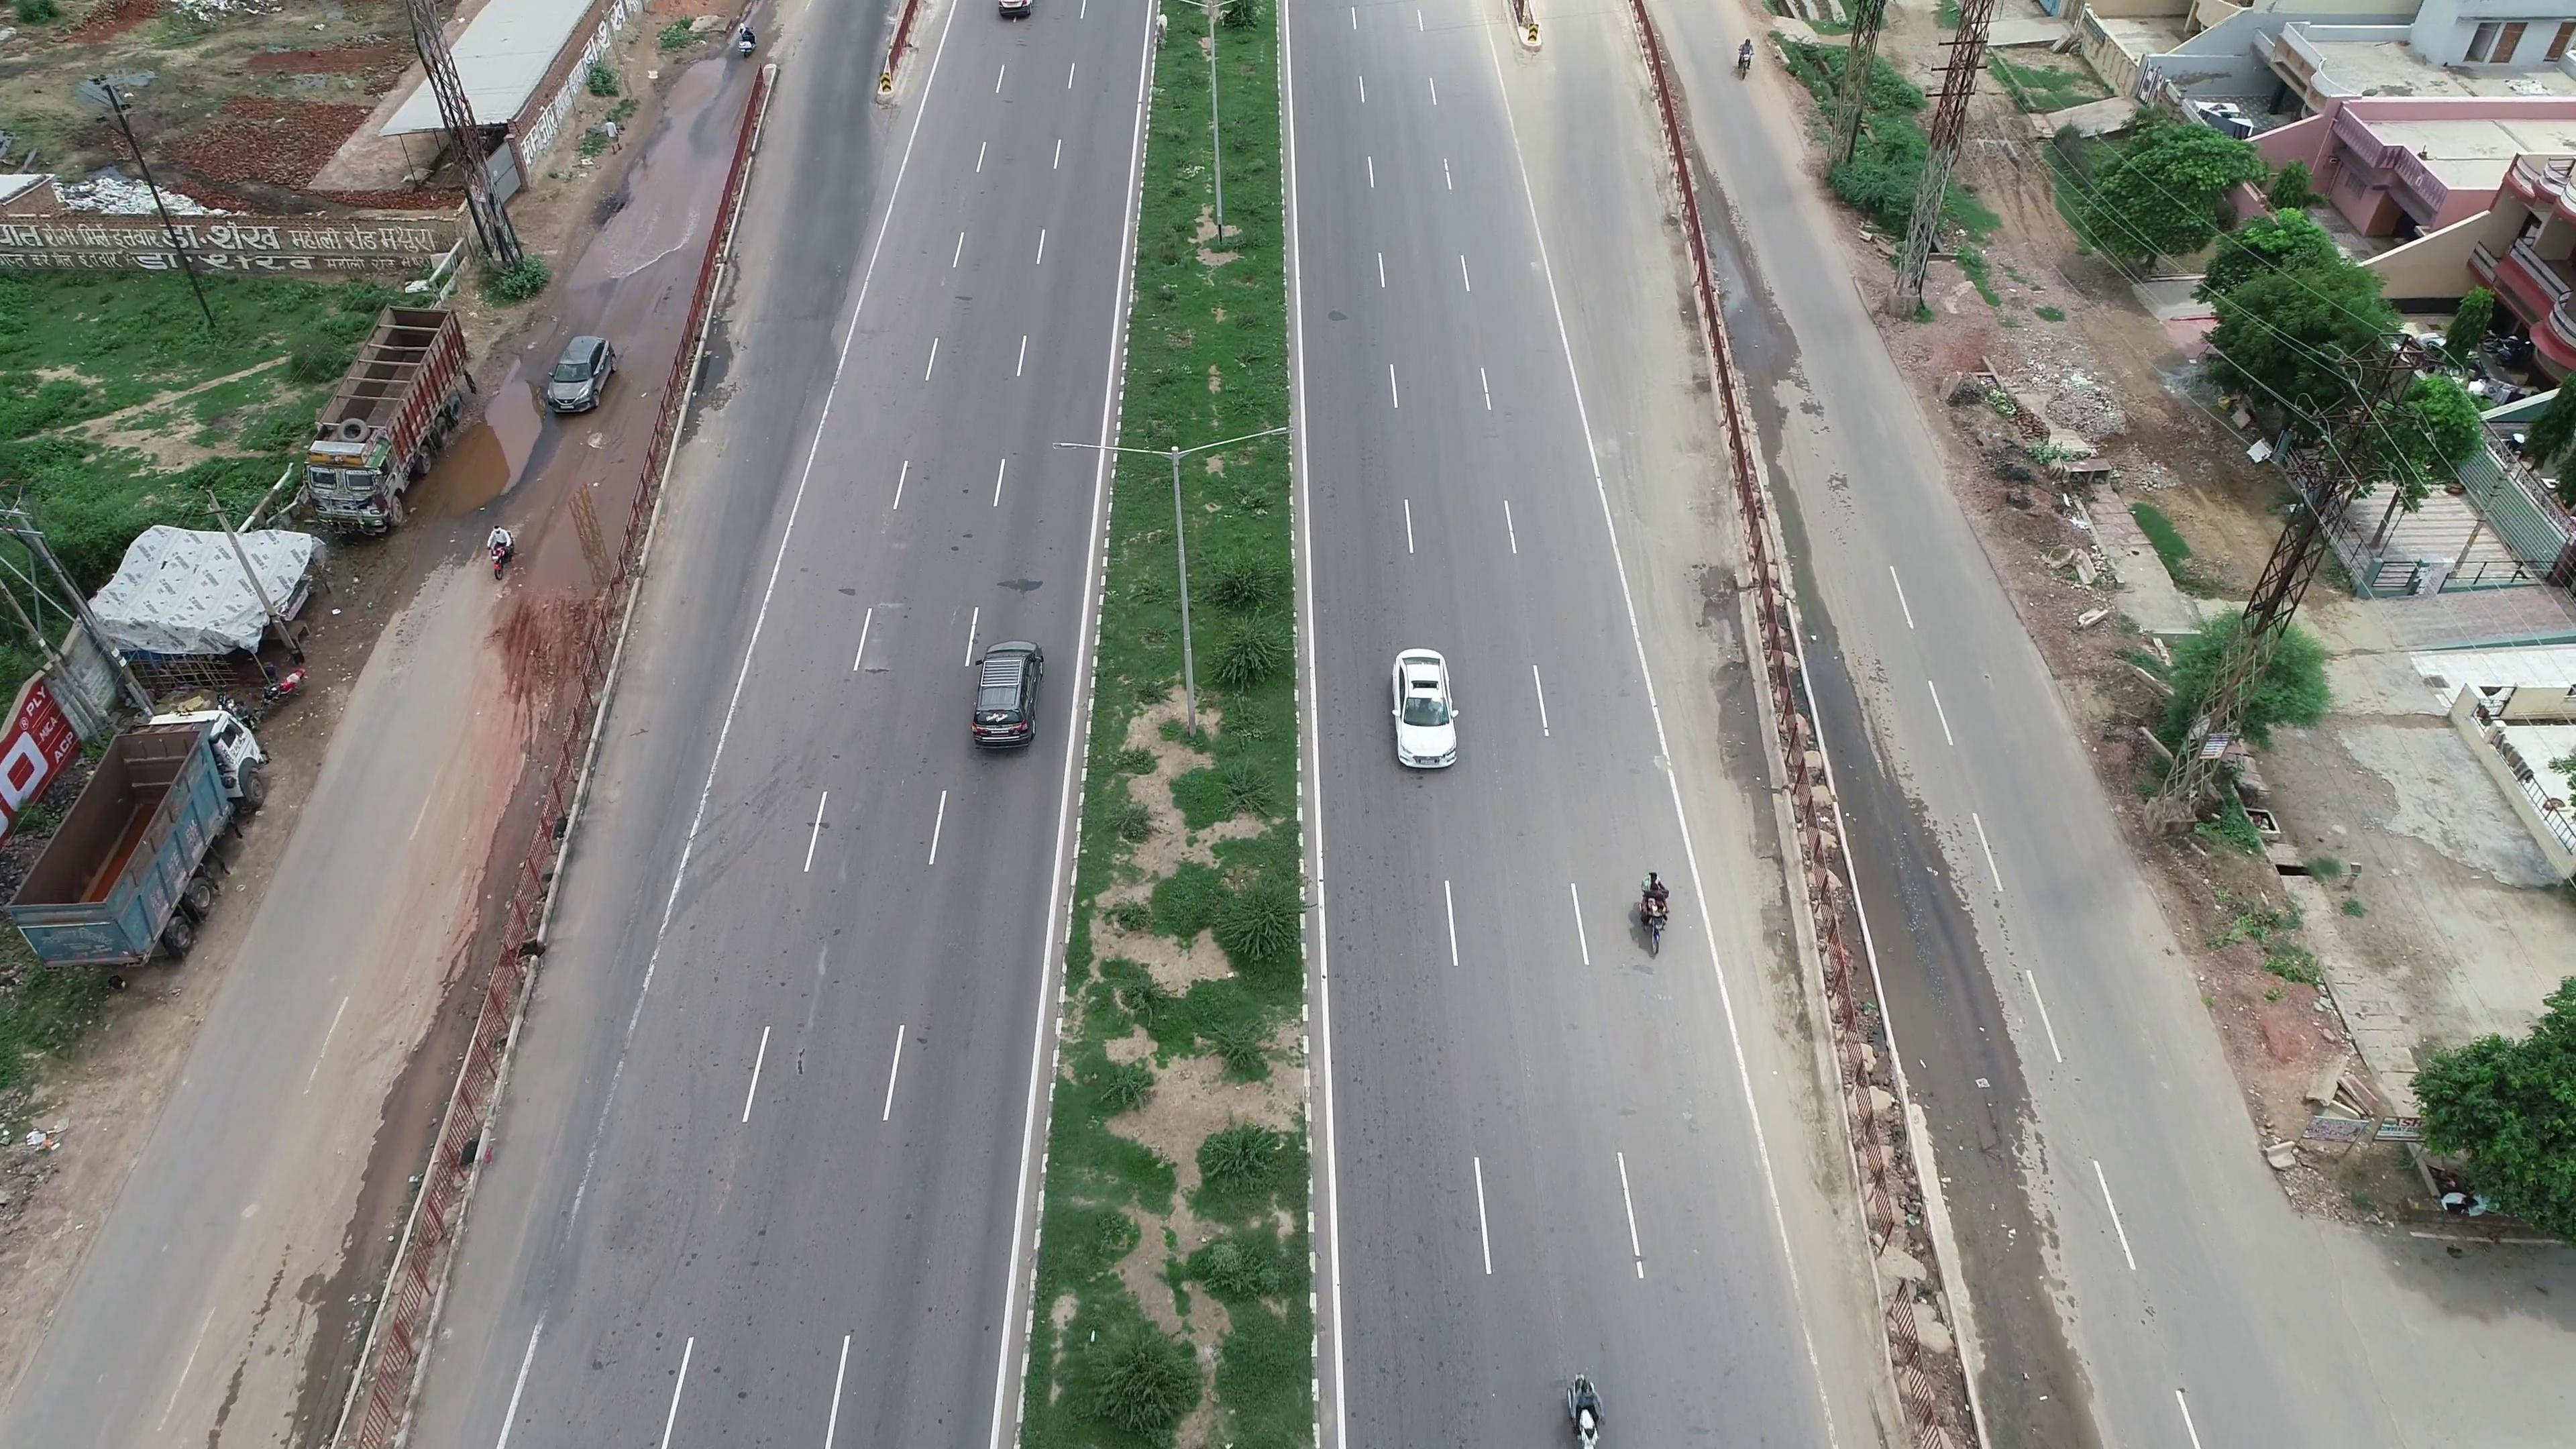Waterlogging: (1833, 729, 2019, 1131)
